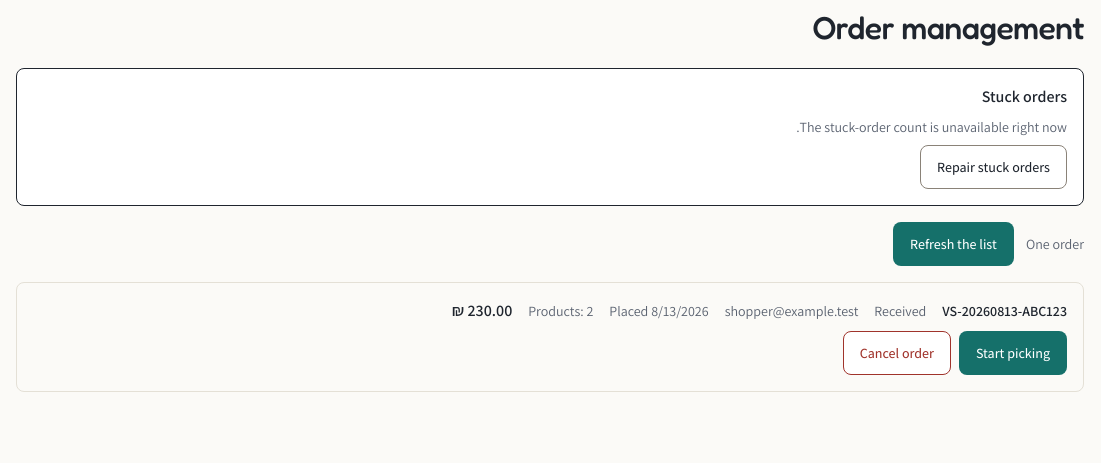
Scenario: moving an order › 🔴 cancelling asks first — it is irreversible › does NOT send the PATCH on the first click
The width and height of the screenshot is (1101, 463).
Click the button "Cancel order". click: (897, 353)
box: [843,331,951,375]
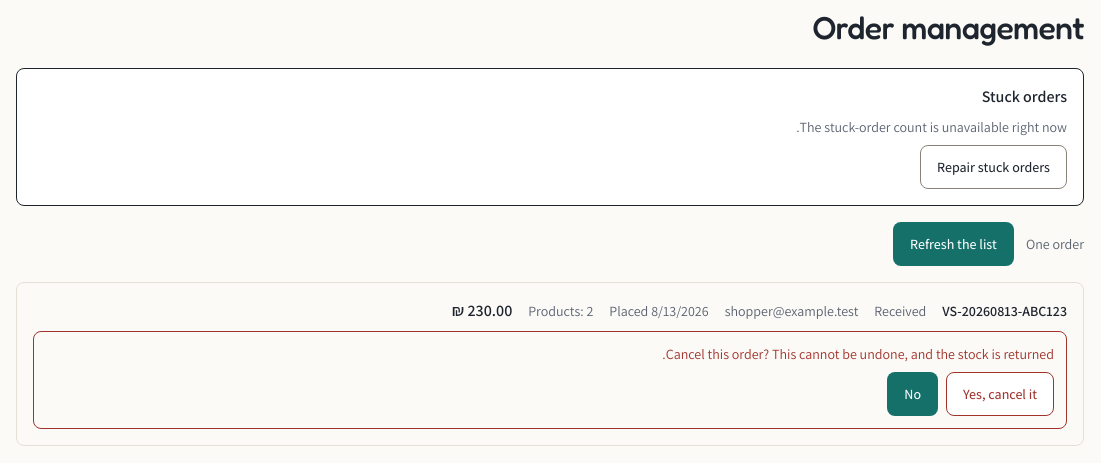
Result: the text "cannot be undone" is shown at [662,345,1054,363]
